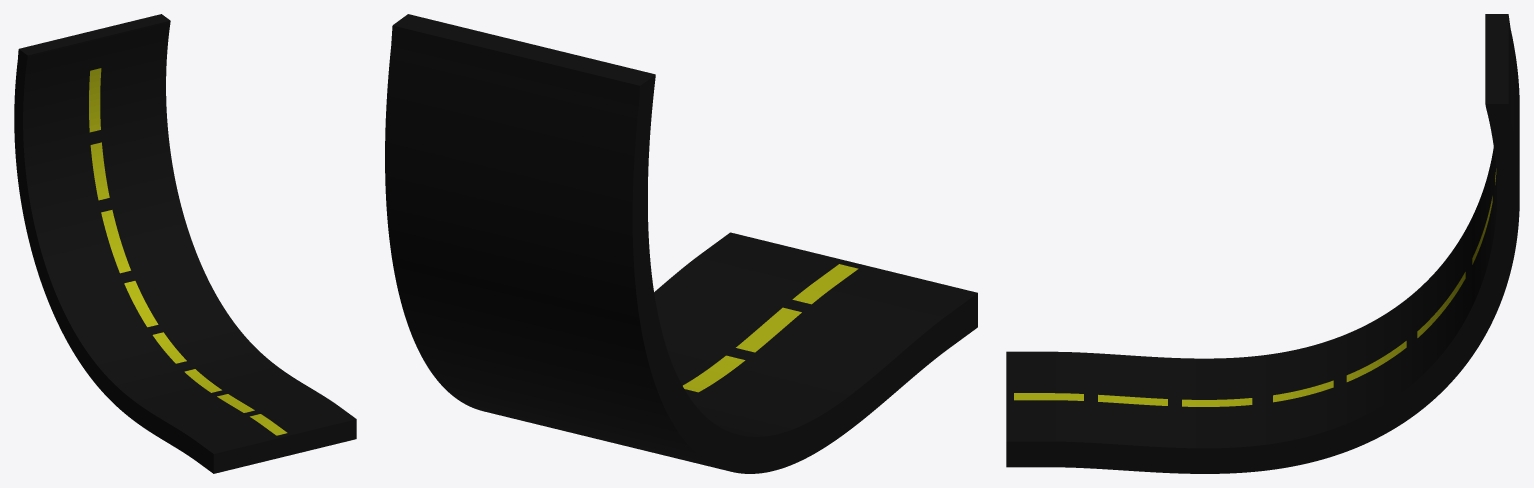
Rendered from RoadCurveUpSmooth.fbx.
The picture shows the model from 3 angles, left to right: view 1: azimuth 30°, elevation 25°; view 2: azimuth 150°, elevation 25°; view 3: azimuth 270°, elevation 25°; orthographic projection. The views are drawn at different scales.
Parts seen in each view (by area): view 1: Cube.001; view 2: Cube.001; view 3: Cube.001.
Part boxes in pixels (left/top/right/bottom): Cube.001: left=14, top=14, right=356, bottom=473; Cube.001: left=385, top=14, right=977, bottom=473; Cube.001: left=1006, top=14, right=1519, bottom=473.
Bounding box in the file's own units: 1109 × 2131 × 2679.
